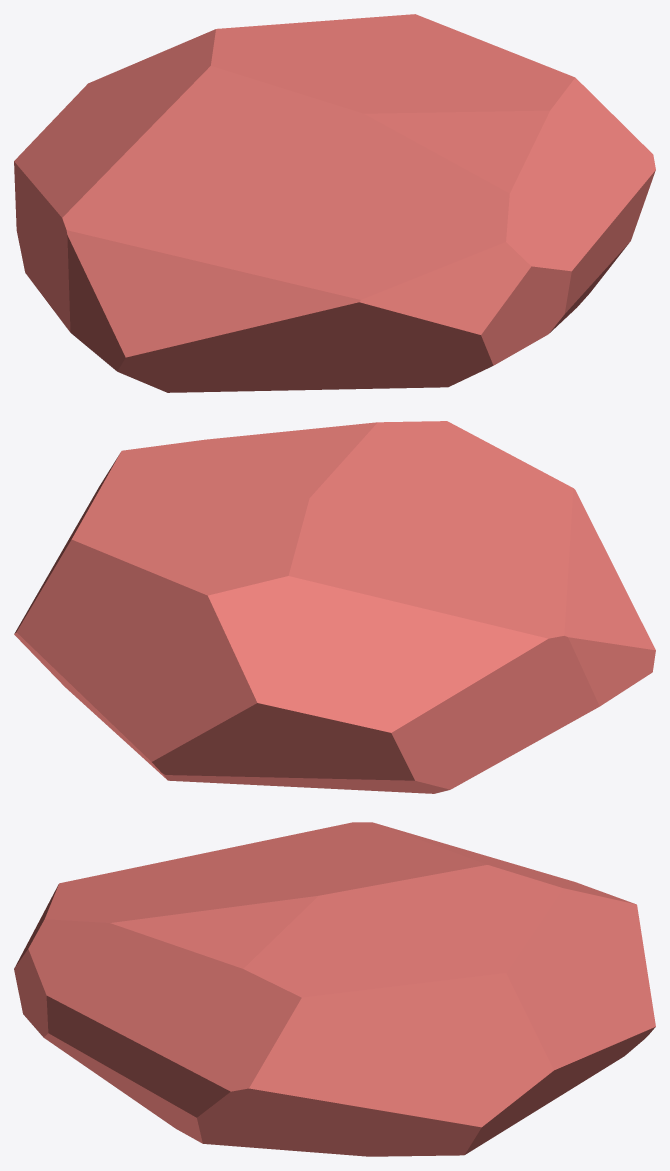
File: RockType2 03.fbx
3 renders of one model, top to bottom at view 1: azimuth 30°, elevation 25°; view 2: azimuth 150°, elevation 25°; view 3: azimuth 270°, elevation 25°, orthographic. The views are drawn at different scales.
Parts seen in each view (by area): view 1: Rock Type2 03 mesh; view 2: Rock Type2 03 mesh; view 3: Rock Type2 03 mesh.
Part boxes in pixels (left/top/right/bottom): Rock Type2 03 mesh: left=14, top=14, right=655, bottom=392; Rock Type2 03 mesh: left=14, top=421, right=655, bottom=793; Rock Type2 03 mesh: left=14, top=822, right=655, bottom=1156.
Size of the model in its own units: 134 by 43.82 by 139.
